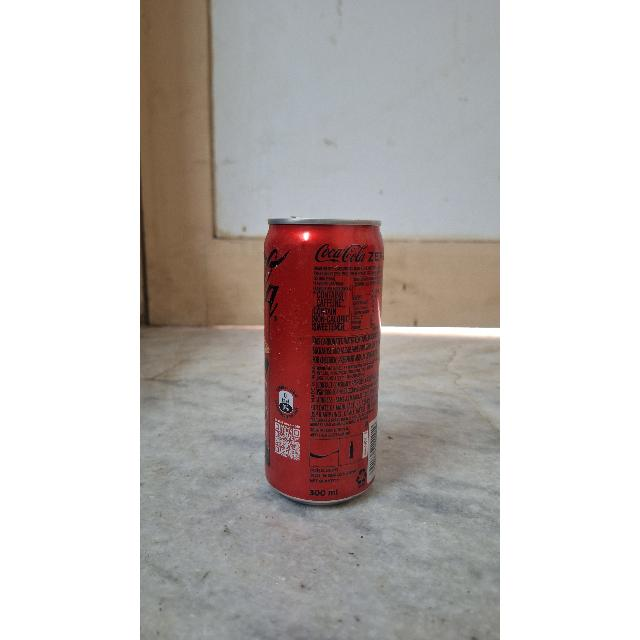Coca Cola Zero: (247, 202, 393, 520)
